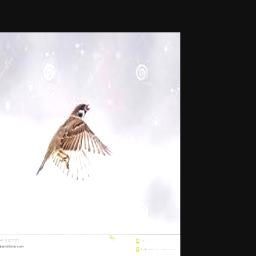Sparrow: (36, 103, 115, 181)
